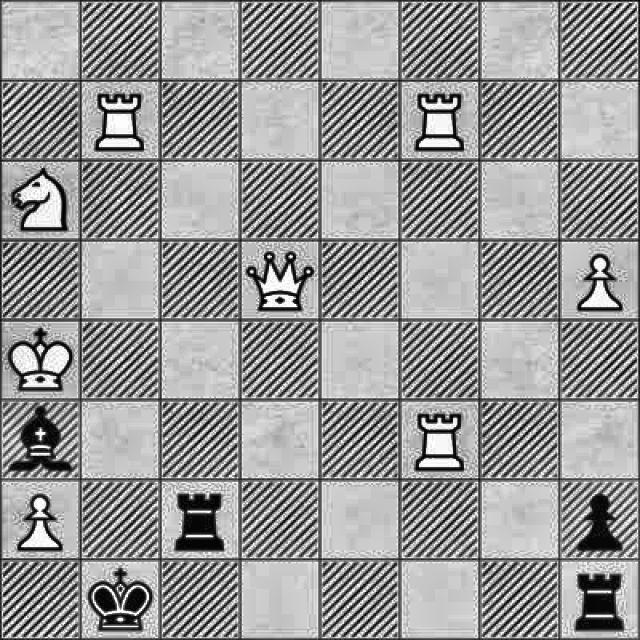black bishop: (2, 406, 82, 480)
black king: (83, 560, 160, 634)
black pawn: (567, 480, 629, 558)
black rook: (560, 562, 635, 637), (165, 483, 239, 555)
white king: (0, 314, 80, 400)
white pawn: (561, 237, 639, 320), (7, 483, 76, 556)
white queen: (241, 239, 319, 319)
white rook: (80, 78, 160, 162), (400, 80, 480, 159), (404, 399, 479, 479)
whiteknight: (4, 160, 77, 238)
